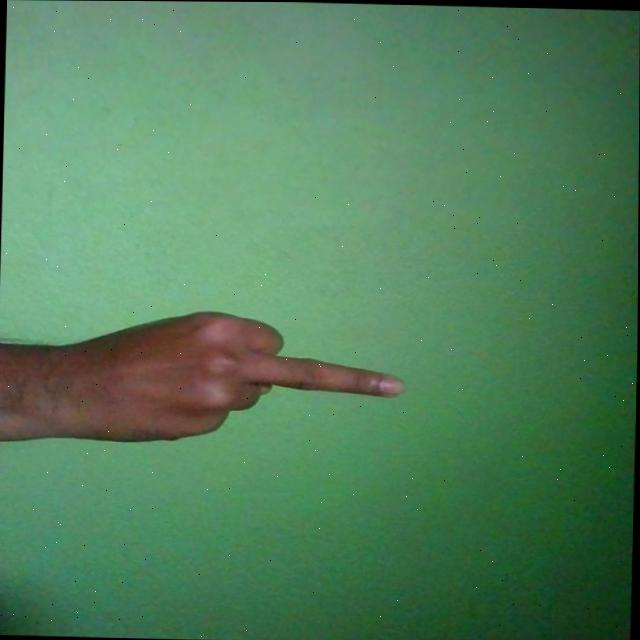Middle Finger: (6, 306, 409, 449)
